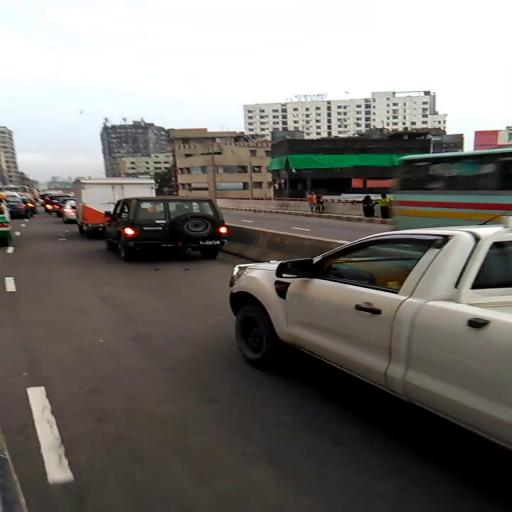army vehicle: (103, 196, 233, 265)
pickup: (222, 218, 512, 455)
